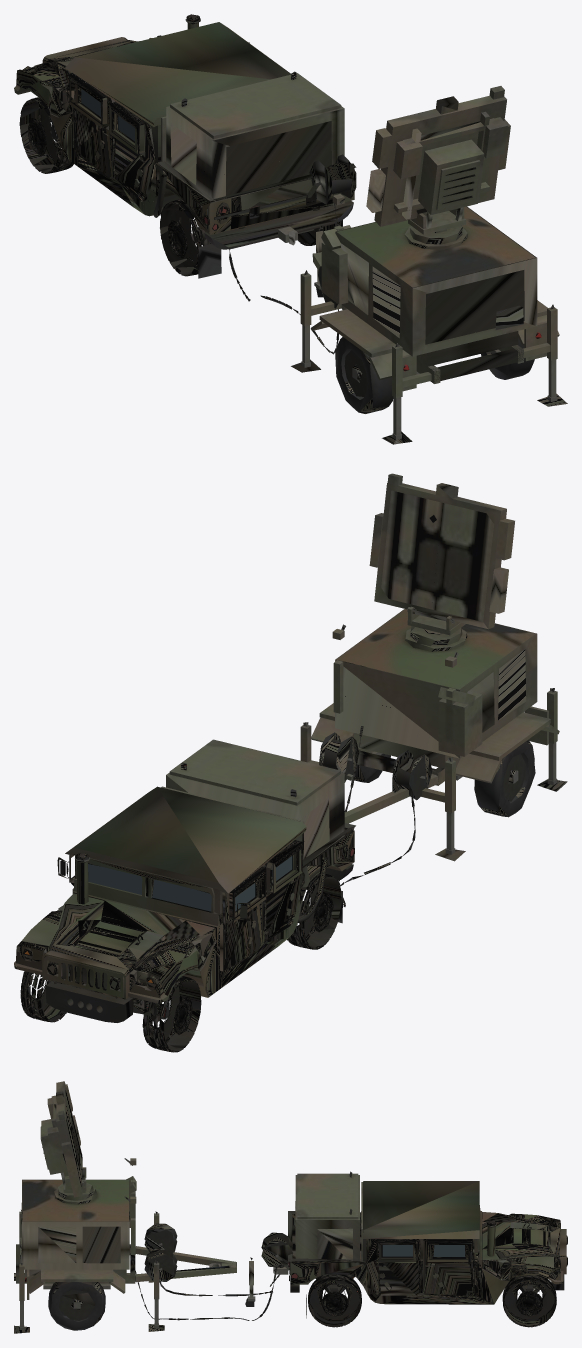
3 renders of one model, top to bottom at view 1: azimuth 30°, elevation 25°; view 2: azimuth 150°, elevation 25°; view 3: azimuth 270°, elevation 25°, orthographic. The views are drawn at different scales.
Parts seen in each view (by area): view 1: body|SN_atlas, body|HUM_atlas, radar|SN_atlas, body|HUM_glass; view 2: body|HUM_atlas, body|SN_atlas, radar|SN_atlas, body|HUM_glass; view 3: body|SN_atlas, body|HUM_atlas, radar|SN_atlas, body|HUM_glass.
Part boxes in pixels (<box>): body|SN_atlas: <box>158,71,567,444</box>; body|HUM_atlas: <box>14,14,354,276</box>; radar|SN_atlas: <box>366,86,510,244</box>; body|HUM_glass: <box>81,89,134,141</box>; body|HUM_atlas: <box>14,786,354,1052</box>; body|SN_atlas: <box>161,609,567,923</box>; radar|SN_atlas: <box>369,473,514,646</box>; body|HUM_glass: <box>88,856,292,911</box>; body|SN_atlas: <box>14,1158,362,1333</box>; body|HUM_atlas: <box>288,1181,567,1327</box>; radar|SN_atlas: <box>40,1081,93,1200</box>; body|HUM_glass: <box>382,1245,464,1256</box>.
Bounding box in the file's own units: 2.54 × 3.84 × 9.05.
Materials: 4 (3 with a texture image).
